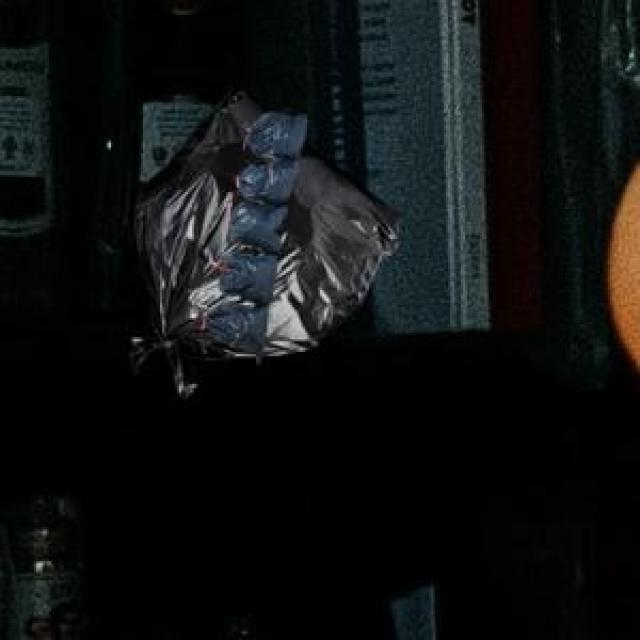miscellaneous trash: (126, 81, 395, 393), (201, 109, 303, 358)
